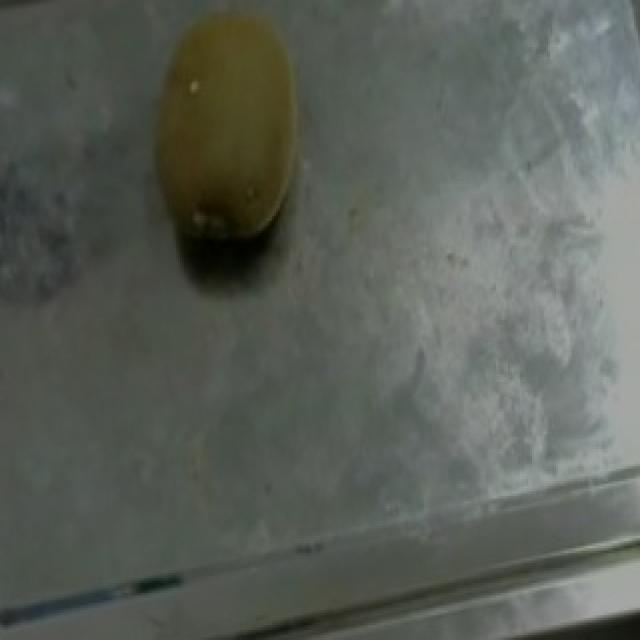Fruit: (116, 0, 340, 258)
